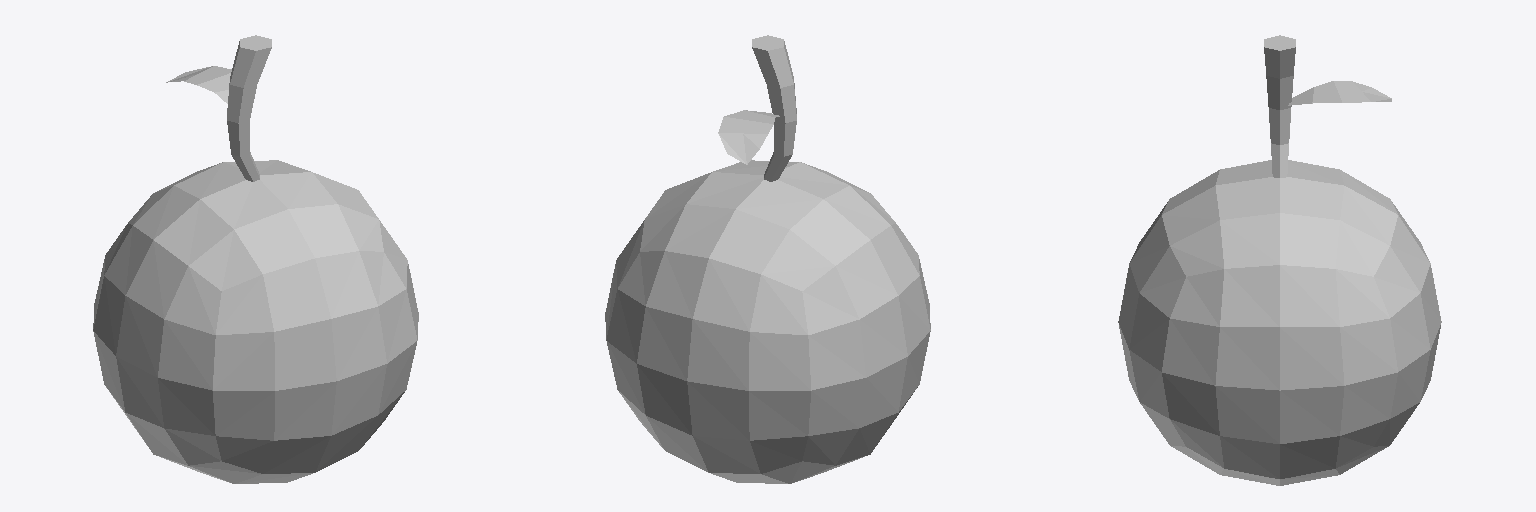
Rendered from Apple.obj.
3 renders of one model, left to right at view 1: azimuth 30°, elevation 25°; view 2: azimuth 150°, elevation 25°; view 3: azimuth 270°, elevation 25°, orthographic.
Visible parts, largest first — view 1: Apple; view 2: Apple; view 3: Apple.
Boxes of the visible parts, x1,y1,x2,y2 form: Apple: [93, 35, 418, 483]; Apple: [605, 35, 930, 483]; Apple: [1118, 35, 1441, 485].
Size of the model in its own units: 0.4002 by 0.5812 by 0.4002.